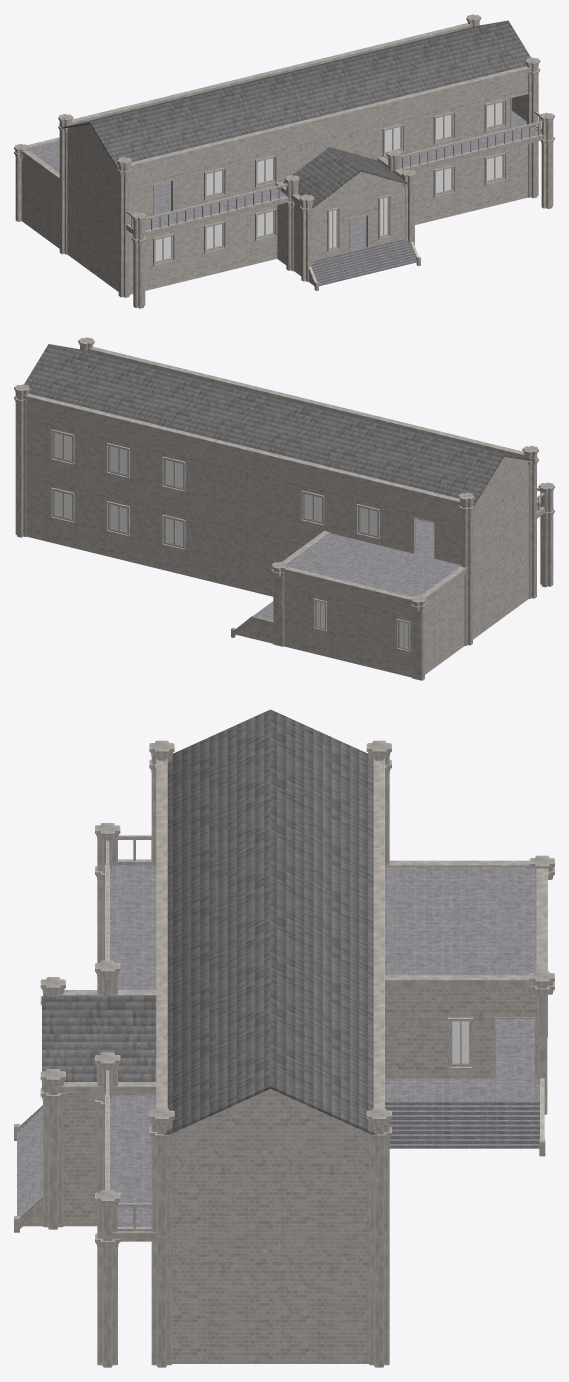
Rendered from structure_i.glb.
The picture shows the model from 3 angles, top to bottom: view 1: azimuth 30°, elevation 25°; view 2: azimuth 150°, elevation 25°; view 3: azimuth 270°, elevation 25°; orthographic projection. The views are drawn at different scales.
Visible parts, largest first — view 1: Structure_I; view 2: Structure_I; view 3: Structure_I.
Boxes of the visible parts, bbox=[...] form: Structure_I: bbox=[14, 14, 554, 308]; Structure_I: bbox=[14, 337, 554, 680]; Structure_I: bbox=[14, 709, 554, 1367].
Size of the model in its own units: 49.4 by 17.53 by 29.87.
7 materials, 6 textured.
